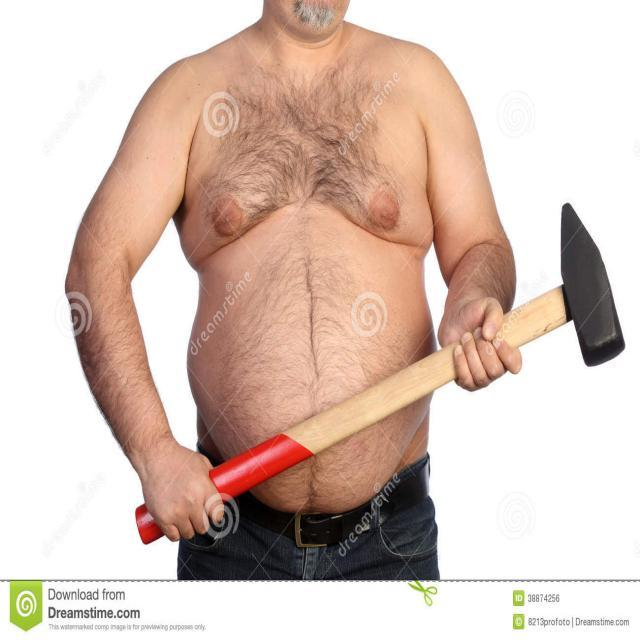hammer: (120, 196, 634, 554)
